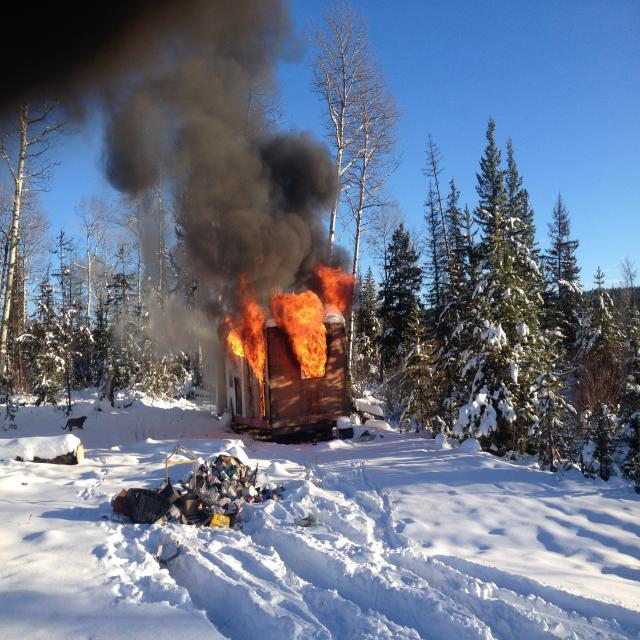Fire: (212, 271, 357, 392)
Smoke: (0, 0, 353, 266)
